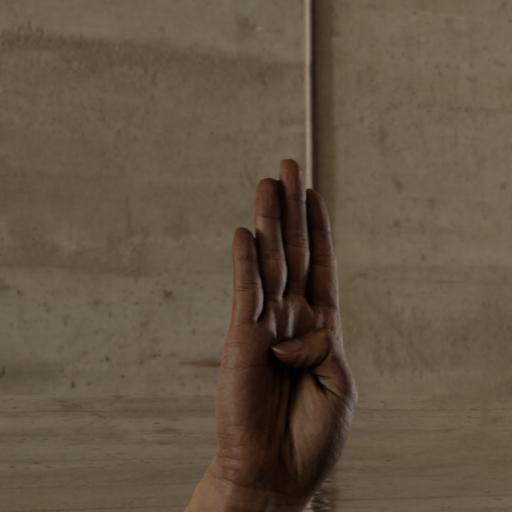B: (211, 153, 364, 499)
